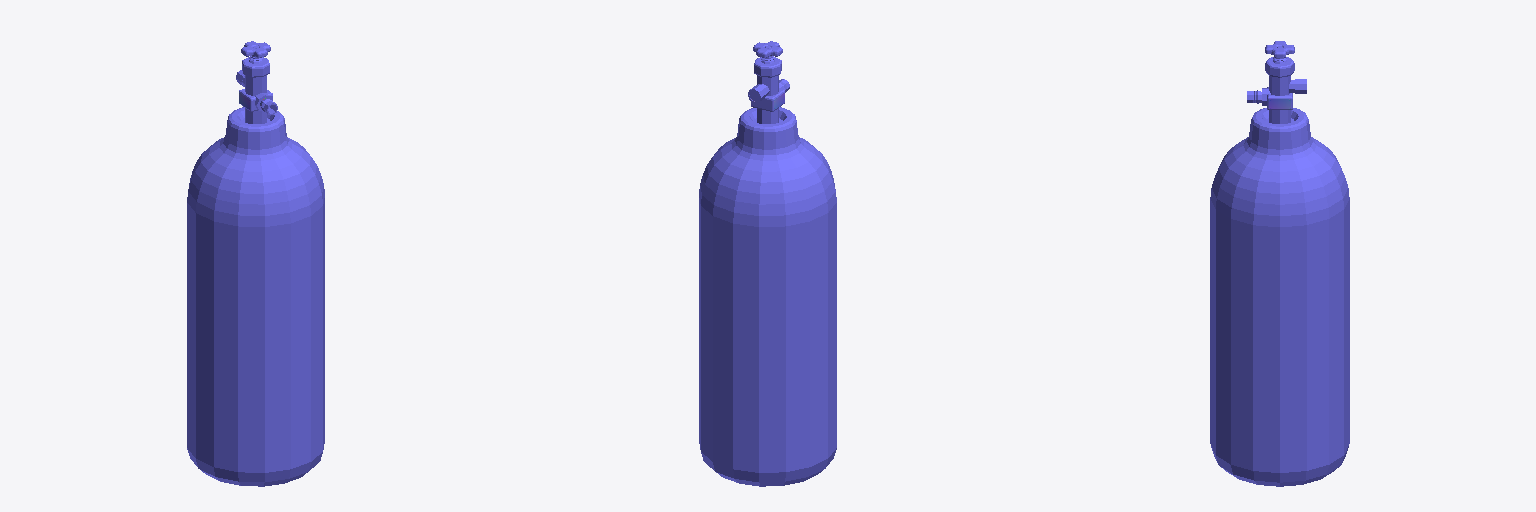
3 views of the same model, side by side, from view 1: azimuth 30°, elevation 25°; view 2: azimuth 150°, elevation 25°; view 3: azimuth 270°, elevation 25° (orthographic).
Visible parts, largest first — view 1: Cylinder; view 2: Cylinder; view 3: Cylinder.
Boxes of the visible parts, x1=… form: Cylinder: x1=187, y1=41, x2=324, y2=486; Cylinder: x1=699, y1=41, x2=836, y2=486; Cylinder: x1=1210, y1=41, x2=1349, y2=486.
Size of the model in its own units: 2 by 6.63 by 2.
1 materials, 1 textured.